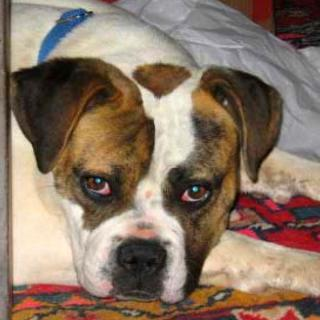dog: (1, 49, 296, 318)
nose: (113, 233, 171, 283)
